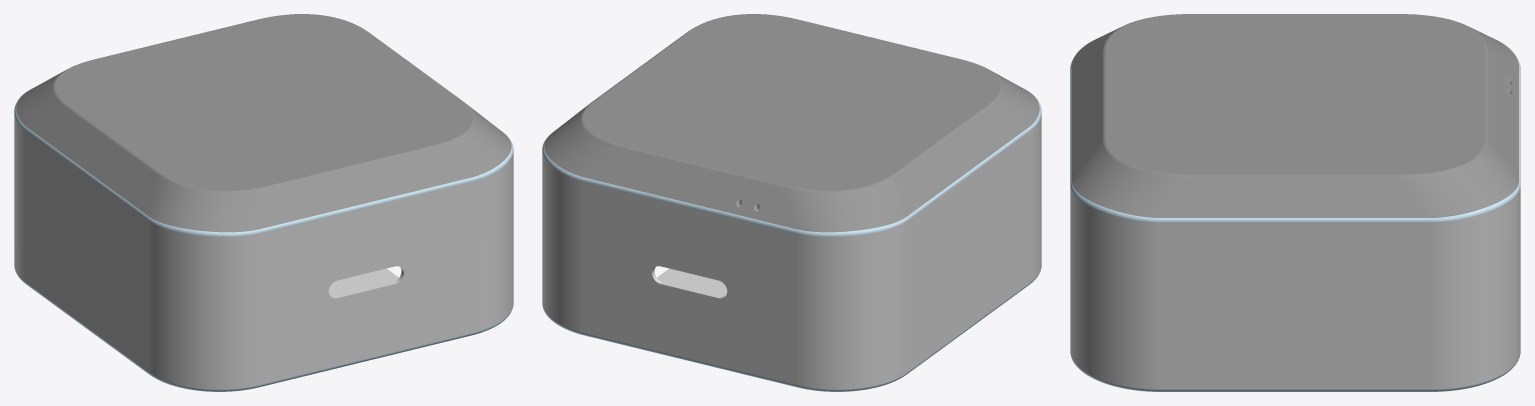
Rendered from mobilebase_body.dae.
3 views of the same model, side by side, from view 1: azimuth 30°, elevation 25°; view 2: azimuth 150°, elevation 25°; view 3: azimuth 270°, elevation 25° (orthographic). The views are drawn at different scales.
Visible parts, largest first — view 1: mobilebase_body; view 2: mobilebase_body; view 3: mobilebase_body.
Part boxes in pixels (box(x1,y1,x2,y2)): mobilebase_body: box(14, 14, 513, 391); mobilebase_body: box(542, 14, 1041, 391); mobilebase_body: box(1070, 14, 1520, 391).
Size of the model in its own units: 0.4 by 0.4 by 0.2.
